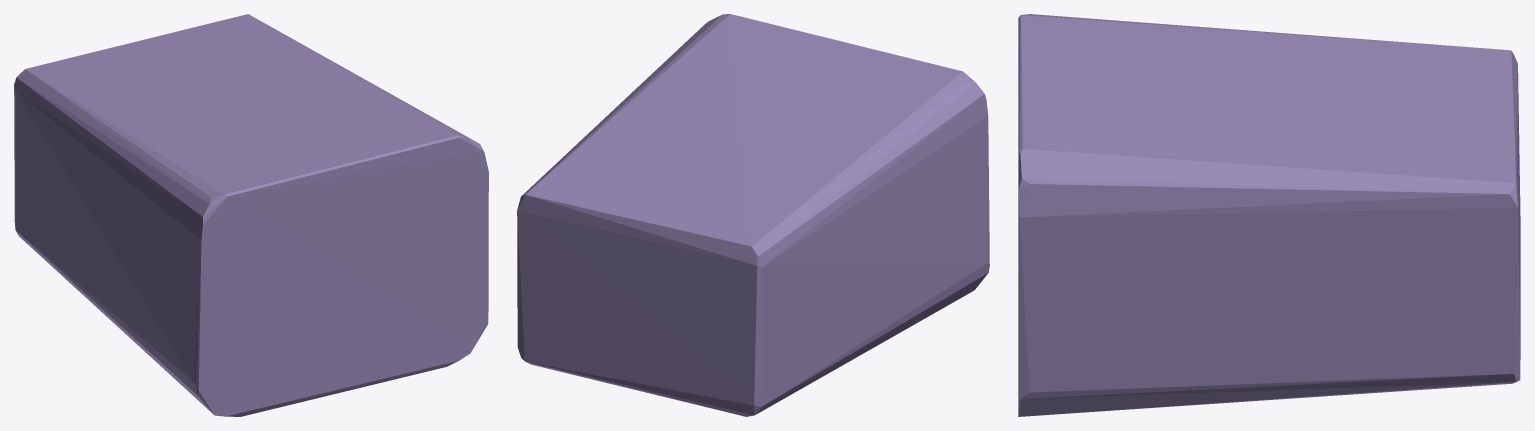
File: trashCan_office_gray_a03.glb
3 views of the same model, side by side, from view 1: azimuth 30°, elevation 25°; view 2: azimuth 150°, elevation 25°; view 3: azimuth 270°, elevation 25° (orthographic). The views are drawn at different scales.
Visible parts, largest first — view 1: geometry_0; view 2: geometry_0; view 3: geometry_0.
Boxes of the visible parts, <box> form: geometry_0: <box>14,14,488,416</box>; geometry_0: <box>517,14,989,416</box>; geometry_0: <box>1018,14,1520,416</box>.
Bounding box in the file's own units: 0.3838 × 0.2865 × 0.48.
